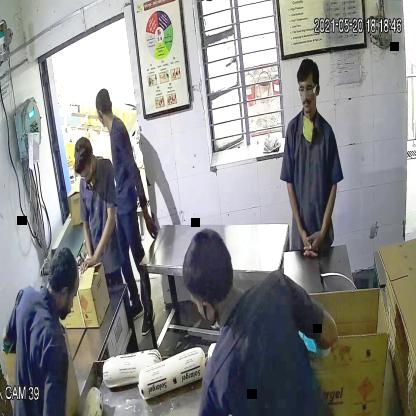goggles: (296, 82, 320, 100)
